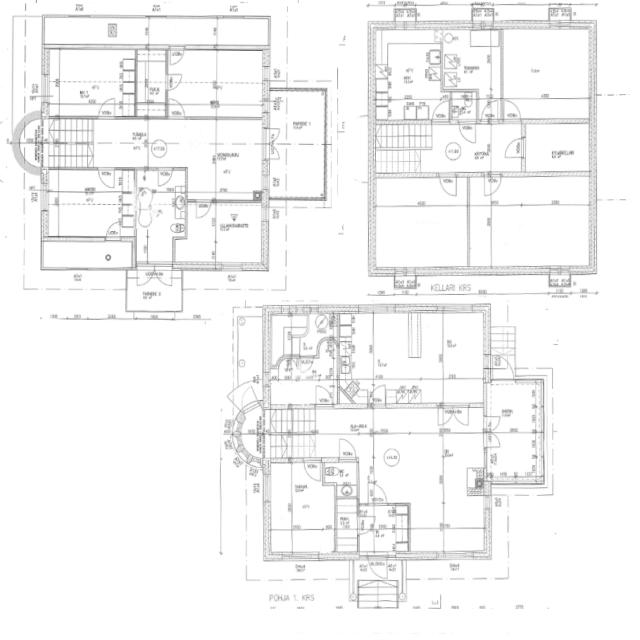door: (233, 384, 260, 418), (492, 353, 515, 382), (368, 550, 387, 582), (154, 262, 172, 290), (137, 262, 155, 290), (503, 137, 525, 158), (439, 174, 457, 198), (368, 384, 386, 408), (458, 120, 475, 145), (484, 173, 501, 198), (368, 482, 386, 505), (316, 384, 333, 408), (303, 458, 320, 482), (338, 439, 355, 463), (356, 516, 376, 536), (432, 102, 449, 125), (482, 102, 498, 125), (504, 102, 520, 125), (98, 98, 115, 119), (453, 404, 469, 426), (262, 128, 284, 144), (262, 144, 284, 160), (98, 167, 114, 188), (438, 404, 453, 426), (105, 219, 120, 241), (168, 99, 184, 119), (196, 200, 212, 220), (170, 44, 185, 64), (483, 416, 501, 432), (165, 75, 182, 91), (483, 432, 501, 447), (300, 356, 314, 374), (158, 167, 172, 185)
